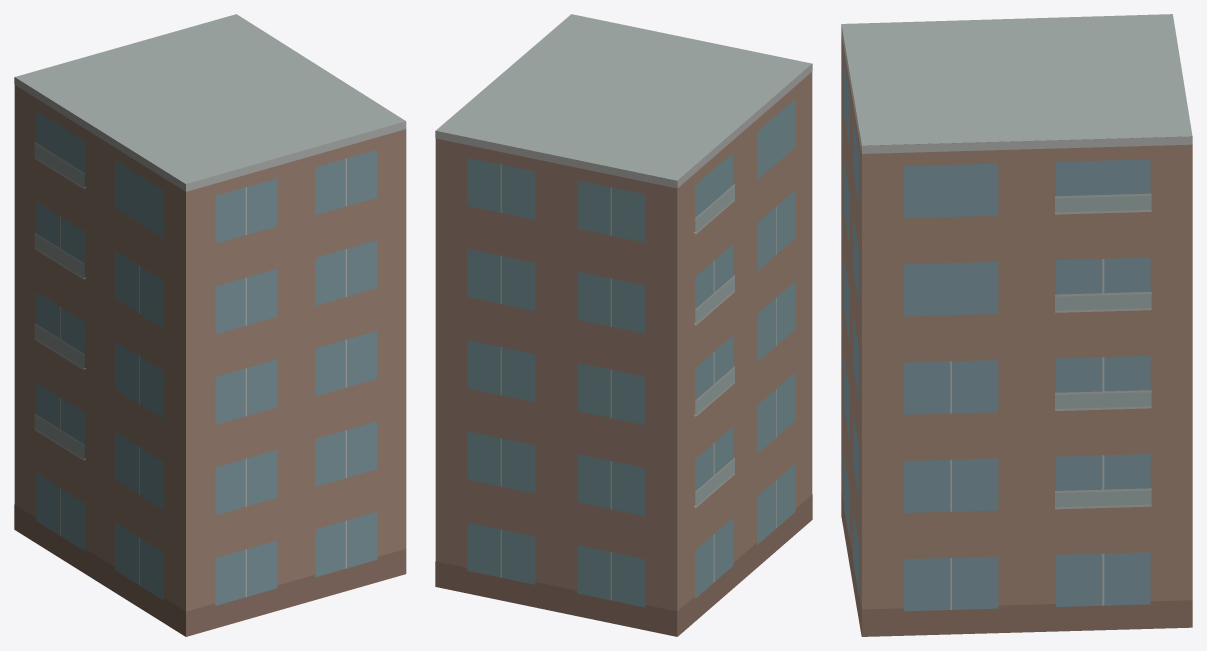
Rendered from survey-upis-32735153.glb.
3 views of the same model, side by side, from view 1: azimuth 30°, elevation 25°; view 2: azimuth 150°, elevation 25°; view 3: azimuth 270°, elevation 25° (orthographic). The views are drawn at different scales.
Visible parts, largest first — view 1: survey-upis-32735153.tmp; view 2: survey-upis-32735153.tmp; view 3: survey-upis-32735153.tmp.
Part boxes in pixels (x1,y1,x2,y2): survey-upis-32735153.tmp: [14, 14, 406, 636]; survey-upis-32735153.tmp: [435, 14, 812, 636]; survey-upis-32735153.tmp: [841, 14, 1192, 636].
Size of the model in its own units: 8.28 by 14.4 by 9.34.
